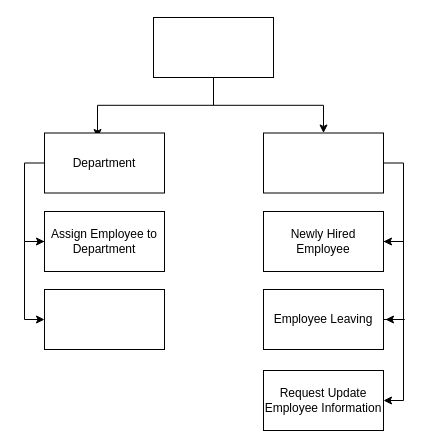
Image size: 430x448. Some labels were removed from this diagram. The box of each missing label's shape, as (x1, y1, x2, y2) in pixels:
Employee Management: (262, 132, 384, 193)
Employee Tab: (152, 16, 274, 78)
Un-assign Employee from Department: (44, 288, 164, 350)
